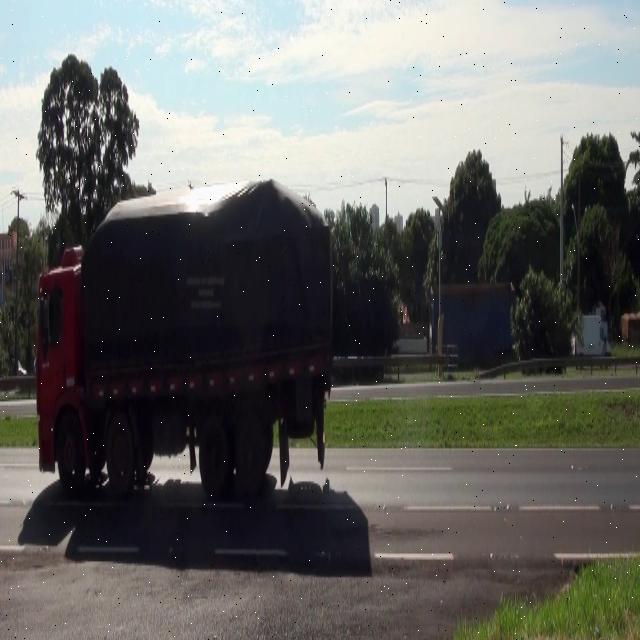-axle: (196, 398, 228, 508), (54, 408, 86, 504), (234, 403, 268, 492), (105, 410, 134, 500)
